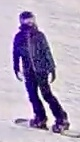snowboarder: (12, 11, 80, 138)
